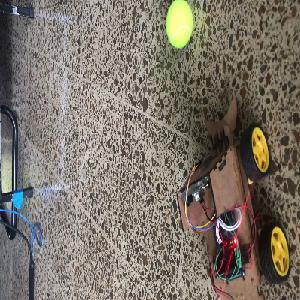Ball: (166, 0, 194, 48)
Robot: (177, 91, 290, 297)
